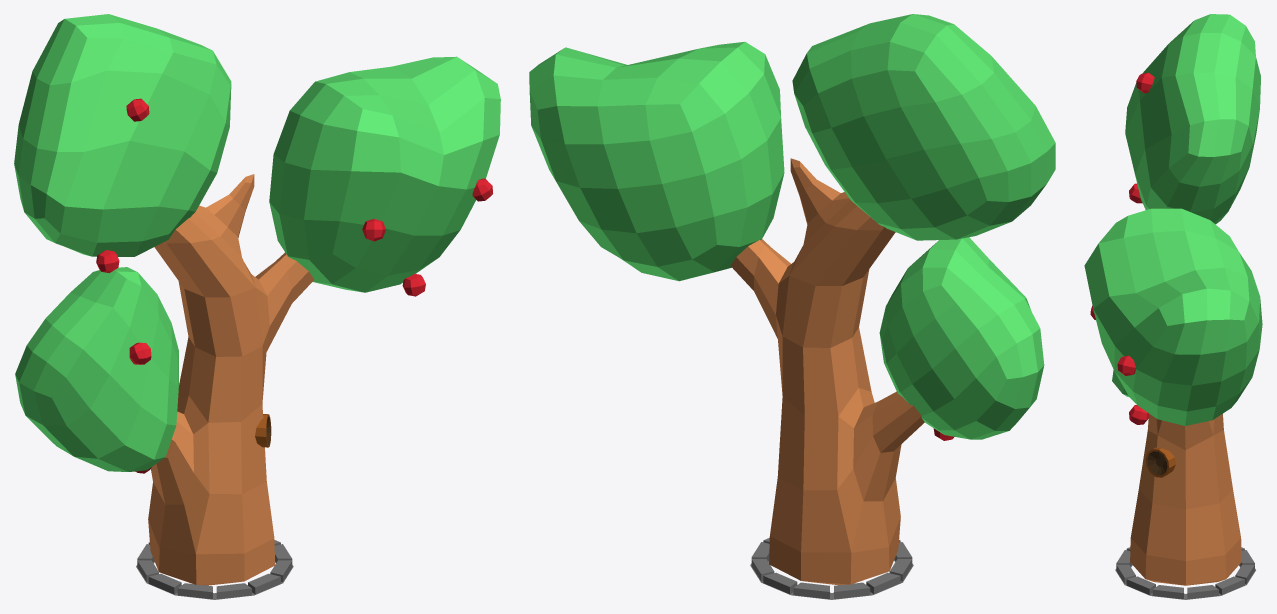
Rendered from Tree2.fbx.
The picture shows the model from 3 angles, left to right: view 1: azimuth 30°, elevation 25°; view 2: azimuth 150°, elevation 25°; view 3: azimuth 270°, elevation 25°; orthographic projection. The views are drawn at different scales.
Visible parts, largest first — view 1: Tree; view 2: Tree; view 3: Tree.
Part boxes in pixels (box(x1,y1,x2,y2)): Tree: box(14, 14, 500, 599); Tree: box(529, 14, 1055, 599); Tree: box(1084, 14, 1262, 599).
Bounding box in the file's own units: 649 × 728 × 234.
